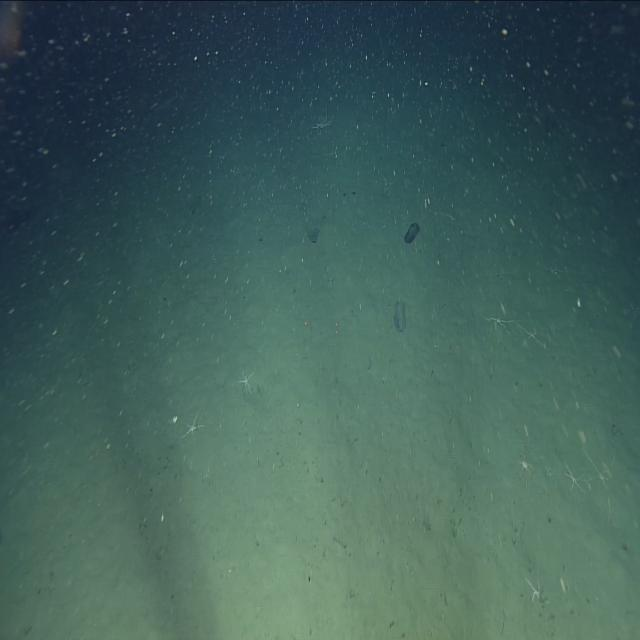Brittle Star: (482, 296, 518, 342), (178, 404, 210, 447), (516, 314, 548, 354), (561, 458, 589, 497), (235, 362, 258, 397), (514, 449, 535, 480)
Not Brittle Star: (392, 294, 409, 336), (402, 219, 421, 246)
